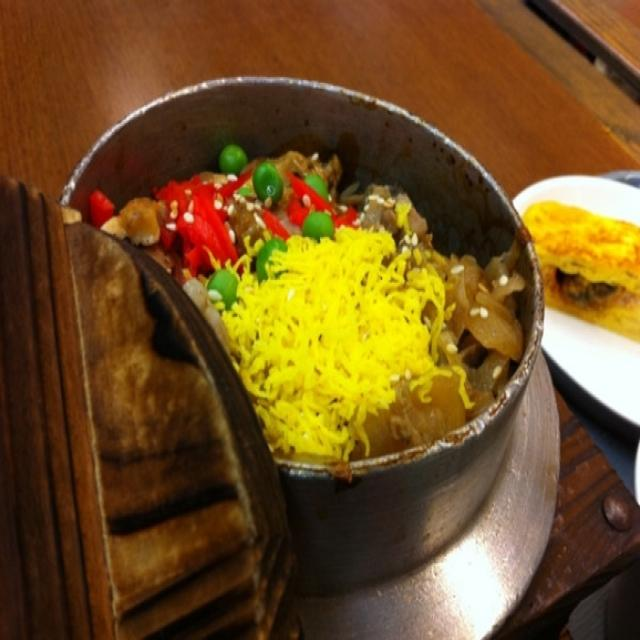牛肉菜式: (13, 13, 623, 555)
